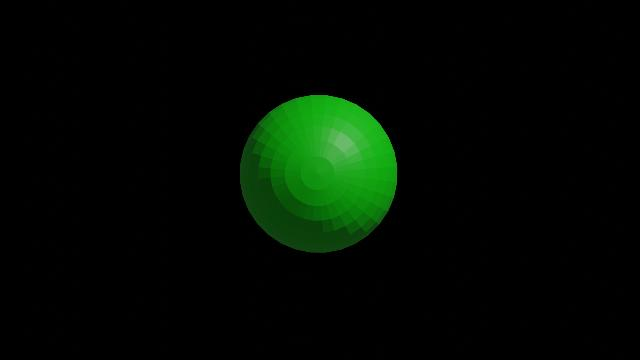Sphere: (228, 86, 412, 264)
